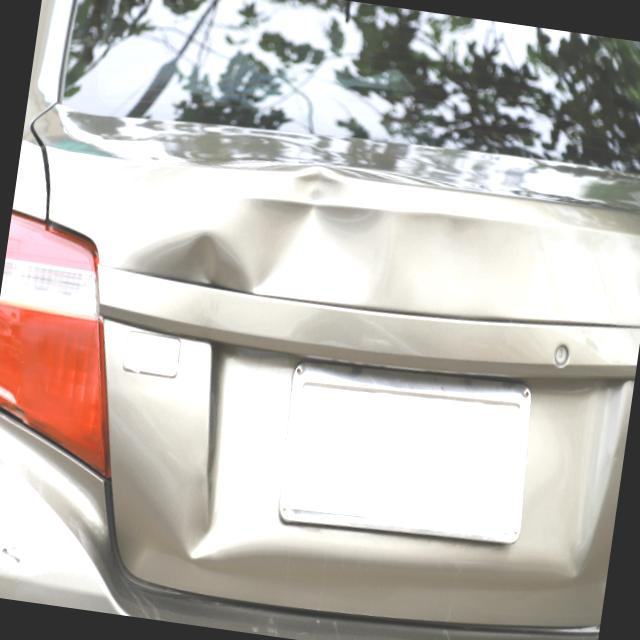Cabossage: (262, 149, 390, 320), (104, 201, 250, 328)
Phare abime: (0, 397, 34, 446)
Rayure: (0, 537, 29, 590)
